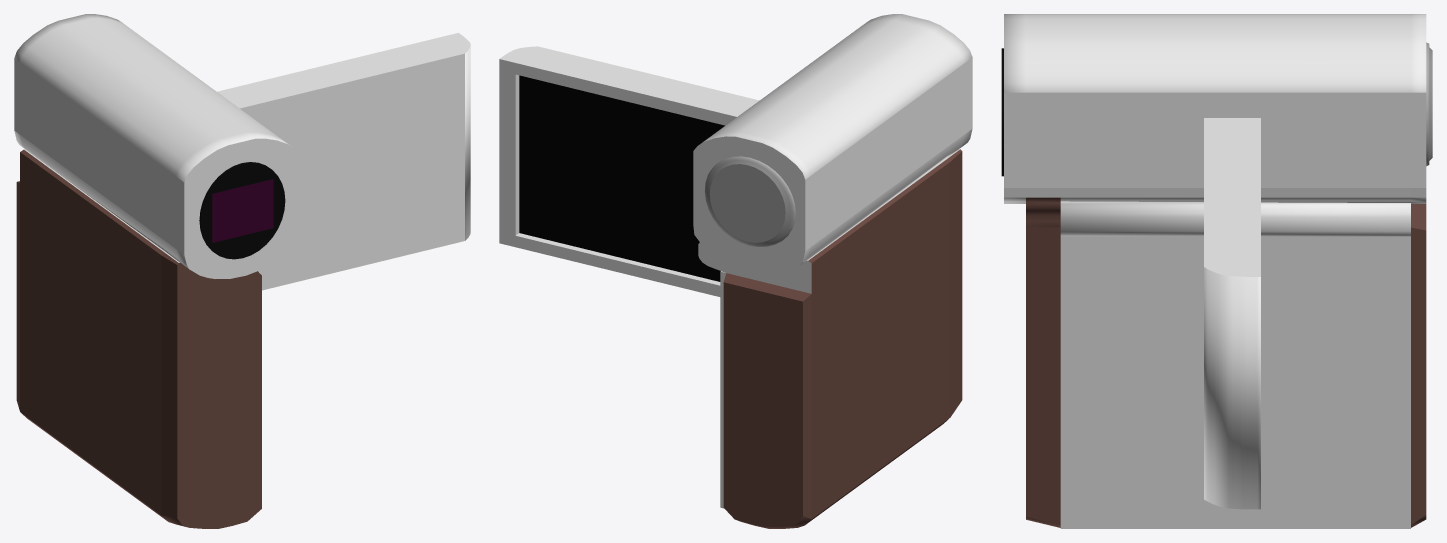
The model's file is Camera.fbx.
The picture shows the model from 3 angles, left to right: view 1: azimuth 30°, elevation 25°; view 2: azimuth 150°, elevation 25°; view 3: azimuth 270°, elevation 25°; orthographic projection. The views are drawn at different scales.
Parts seen in each view (by area): view 1: 立方体; view 2: 立方体; view 3: 立方体.
Boxes of the visible parts, bbox=[...] form: 立方体: bbox=[14, 14, 470, 528]; 立方体: bbox=[499, 14, 972, 528]; 立方体: bbox=[1001, 14, 1432, 528].
Bounding box in the file's own units: 99.66 × 100 × 79.38.
